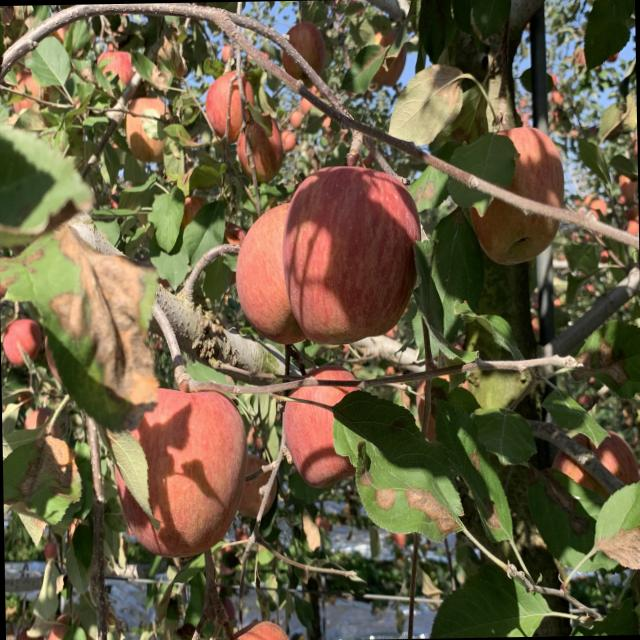fresh: (277, 159, 431, 348), (112, 374, 255, 567)
